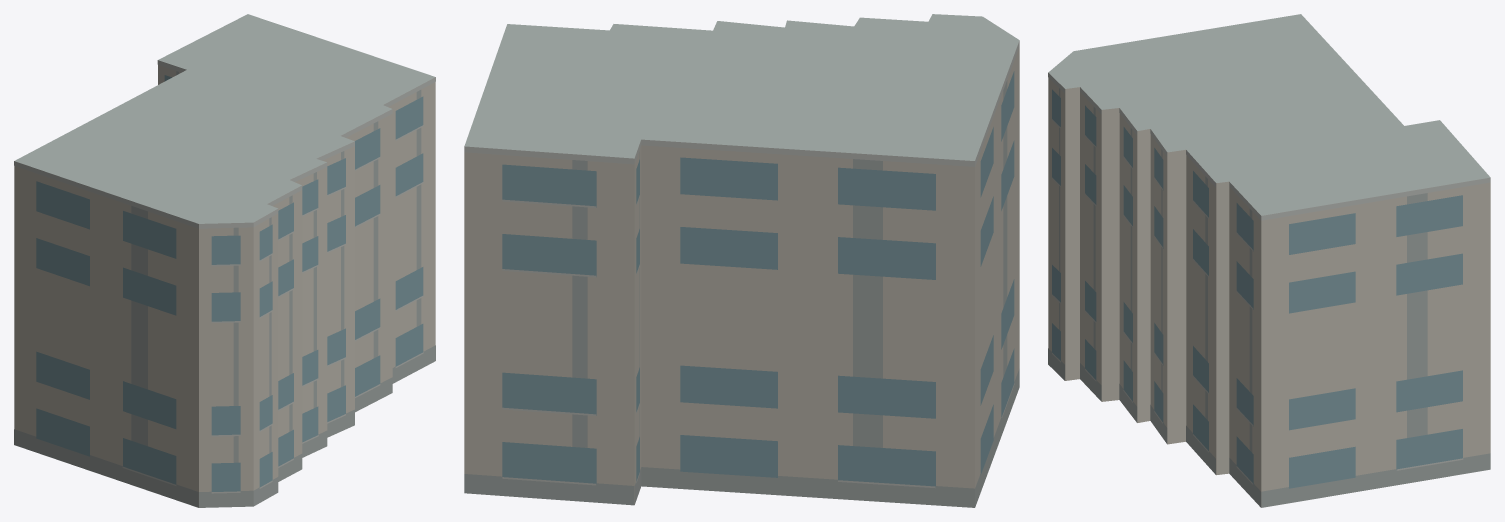
Rendered from survey-upis-32718083.glb.
3 views of the same model, side by side, from view 1: azimuth 30°, elevation 25°; view 2: azimuth 150°, elevation 25°; view 3: azimuth 270°, elevation 25° (orthographic). The views are drawn at different scales.
Visible parts, largest first — view 1: survey-upis-32718083.tmp; view 2: survey-upis-32718083.tmp; view 3: survey-upis-32718083.tmp.
Boxes of the visible parts, x1,y1,x2,y2 form: survey-upis-32718083.tmp: [14, 14, 435, 507]; survey-upis-32718083.tmp: [464, 14, 1019, 507]; survey-upis-32718083.tmp: [1048, 14, 1490, 507].
Size of the model in its own units: 21.58 by 14.55 by 19.99.
